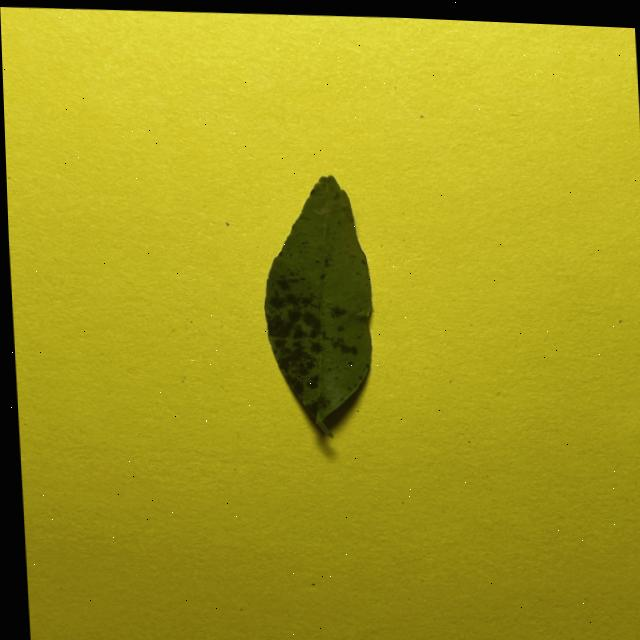sooty_mold: (263, 175, 370, 434)
